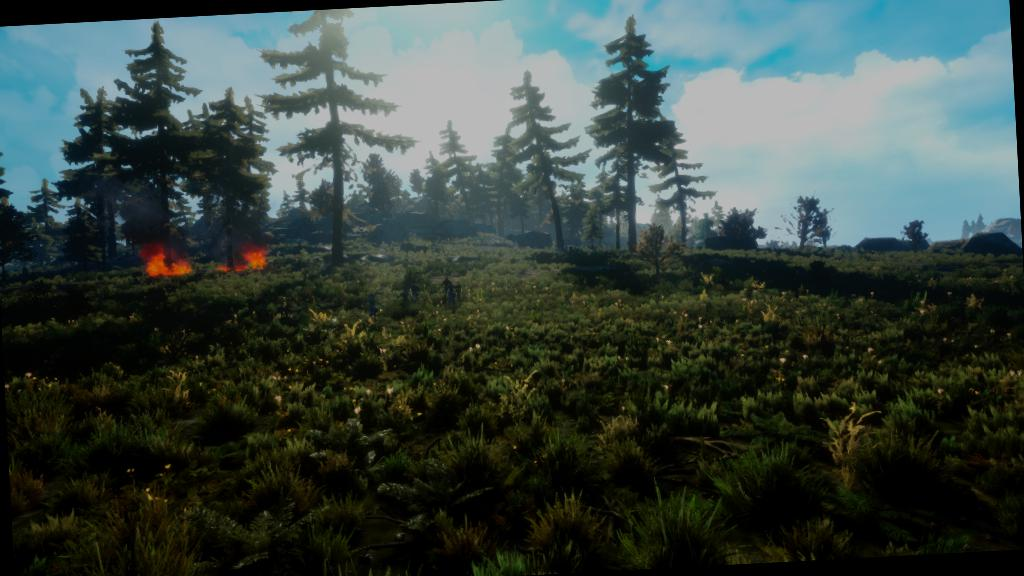Fire: (137, 243, 196, 280), (216, 244, 268, 272)
human: (434, 269, 472, 312), (393, 274, 428, 312), (360, 281, 386, 324)
smoke: (115, 192, 180, 241), (213, 200, 265, 246)
